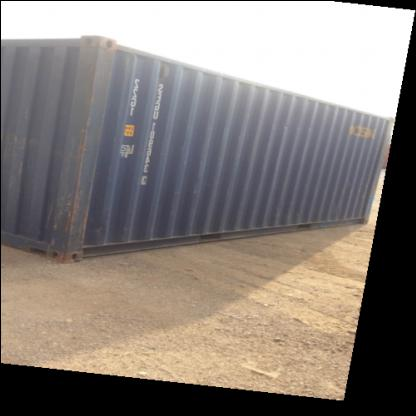Damage: (43, 186, 110, 242), (76, 40, 113, 100), (3, 123, 45, 157), (273, 113, 307, 141)
